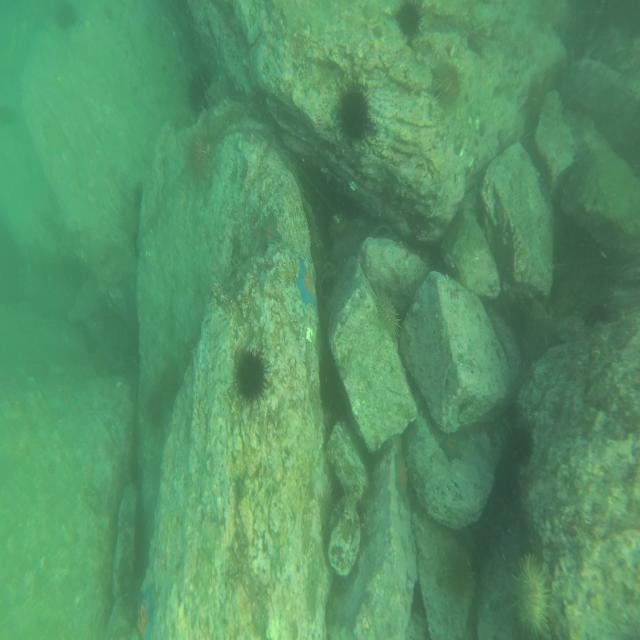echinus: (513, 551, 553, 633), (338, 75, 374, 143), (439, 541, 478, 601), (373, 285, 404, 341), (236, 348, 265, 406), (431, 54, 461, 110), (185, 138, 218, 186), (183, 69, 210, 116), (505, 423, 535, 464), (393, 1, 424, 36), (157, 361, 183, 400)
starfish: (129, 593, 161, 639), (294, 255, 320, 310), (393, 448, 412, 503), (441, 429, 463, 467), (257, 213, 283, 245)
